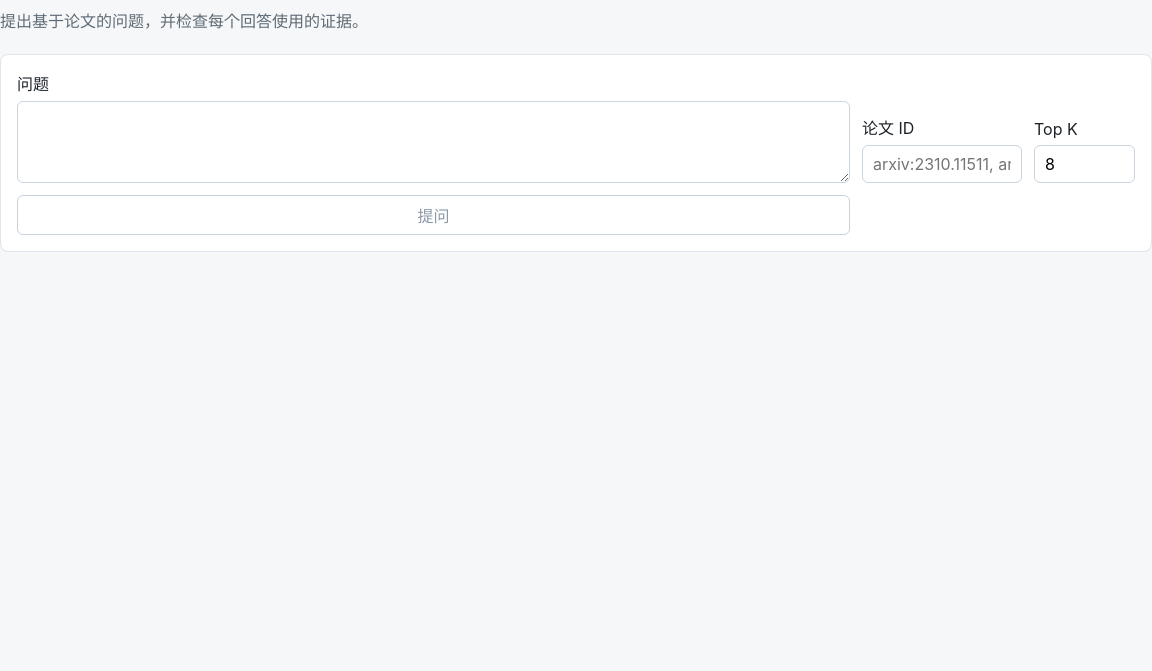
Test: Overview and Library pages › ask page renders answer citations and DSH prompt bridge
The image size is (1152, 671).
Type "What is Self-RAG?" into the text box labelled "问题" at point(434, 142), box [17,101,850,183]
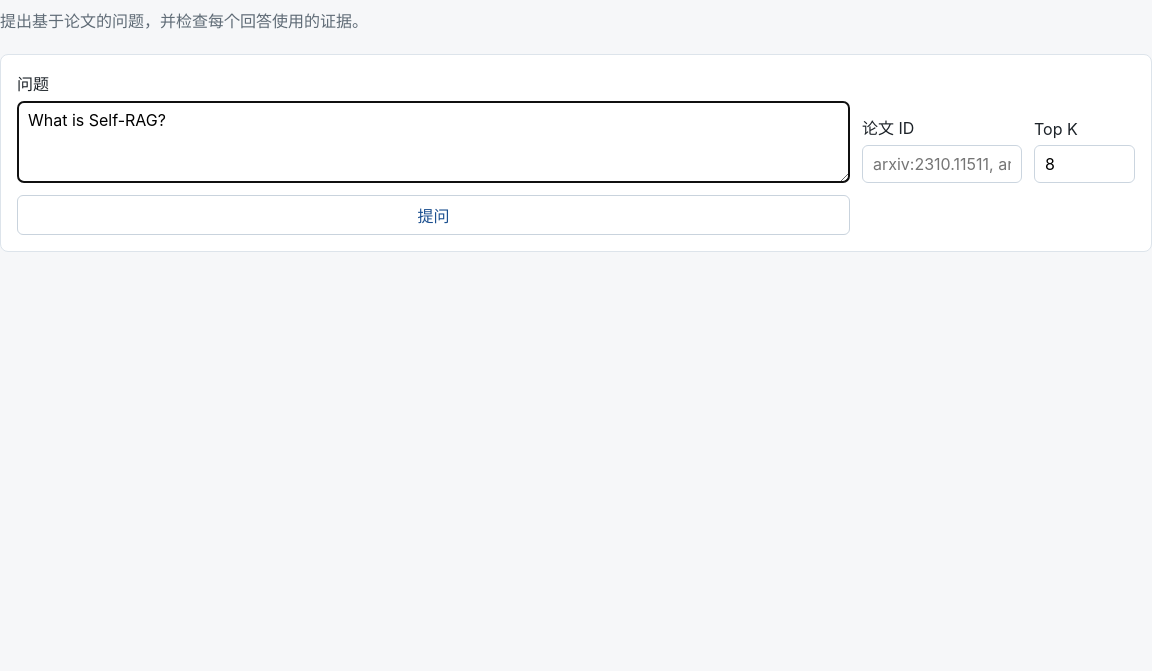
Click the button "提问" at point(434, 215), box [17,195,850,235]
(page scrolled)
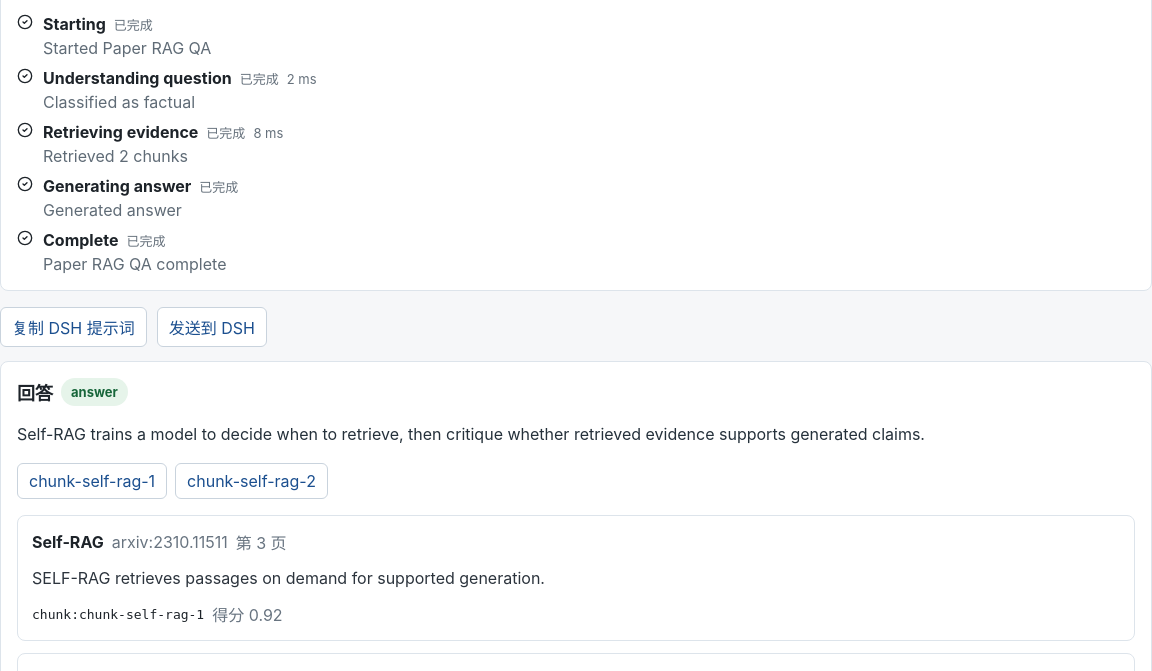
Now the text "decide when to retrieve" is shown, box [17,424,925,444]
Now the button "chunk-self-rag-1" is shown, box [17,463,167,499]
Now the button "复制 DSH 提示词" is shown, box [0,307,147,347]
